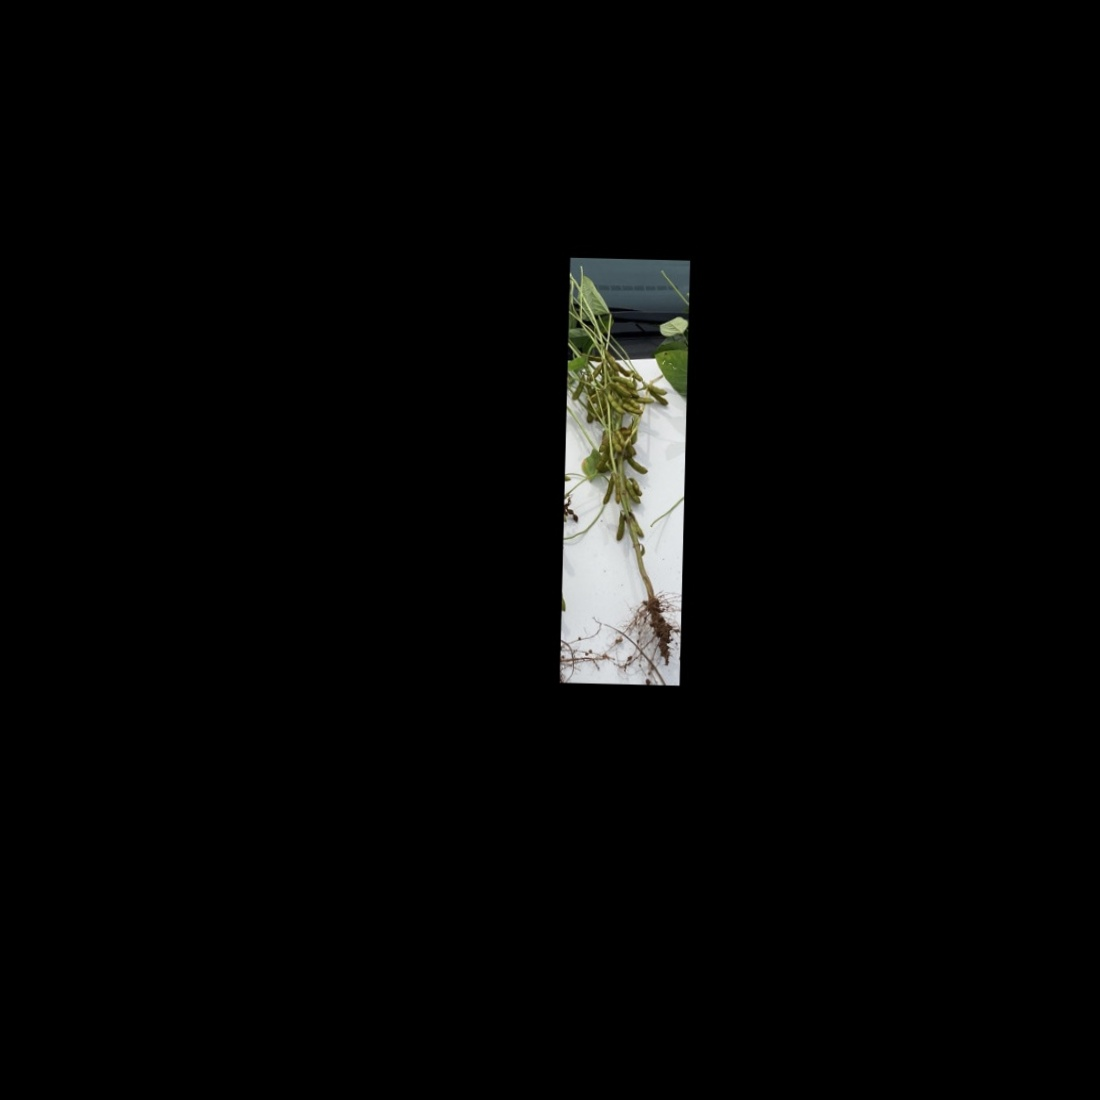pod: (622, 454, 652, 477), (622, 474, 642, 507), (603, 389, 626, 417), (570, 373, 589, 403), (644, 387, 671, 408), (602, 346, 621, 376), (600, 474, 615, 508), (594, 447, 610, 472), (614, 510, 625, 545), (644, 383, 669, 397), (612, 474, 623, 504)
soy: (561, 265, 687, 662)
